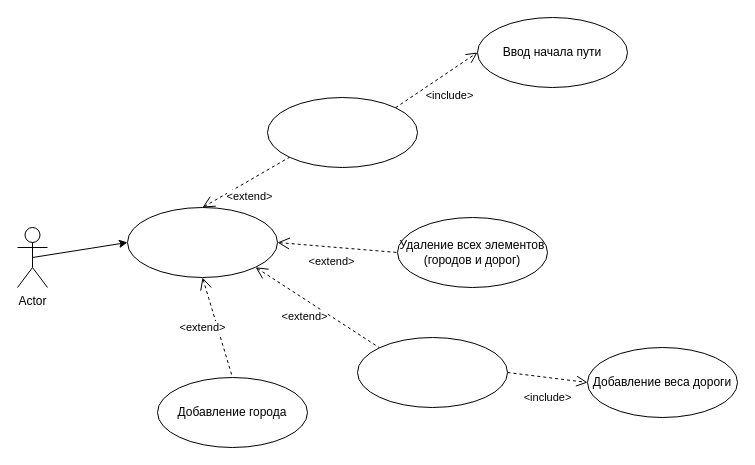
Image size: 755x465. Some labels were removed from this diagram. The shapes that lost their labels are listed below. From the top down, each one's centre as x and y in pixels, then its label:
At point (342, 132): "Поиск пути".
At point (202, 242): "Запуск приложения".
At point (432, 372): "Добавление дороги".
